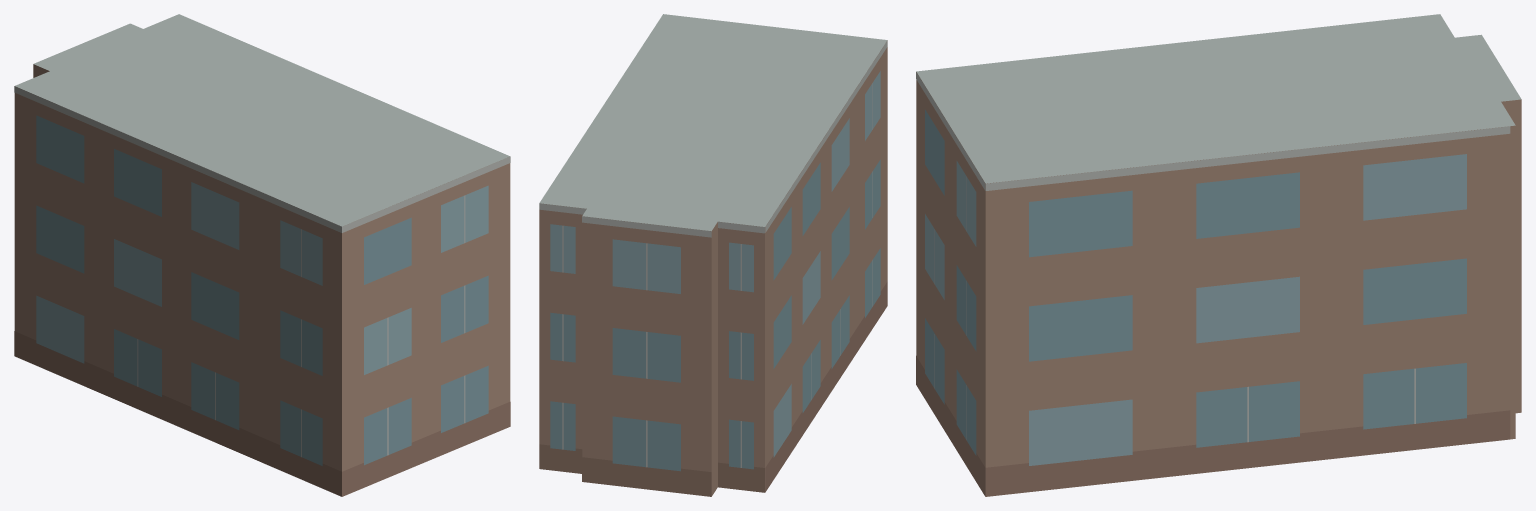
Rendered from survey-upis-32472458.glb.
3 views of the same model, side by side, from view 1: azimuth 30°, elevation 25°; view 2: azimuth 150°, elevation 25°; view 3: azimuth 270°, elevation 25° (orthographic). The views are drawn at different scales.
Parts seen in each view (by area): view 1: survey-upis-32472458.tmp; view 2: survey-upis-32472458.tmp; view 3: survey-upis-32472458.tmp.
Boxes of the visible parts, box(x1,y1,x2,y2) form: survey-upis-32472458.tmp: box(14, 14, 510, 496); survey-upis-32472458.tmp: box(539, 14, 887, 496); survey-upis-32472458.tmp: box(916, 14, 1521, 496).
Bounding box in the file's own units: 11.74 × 10.1 × 17.7.
